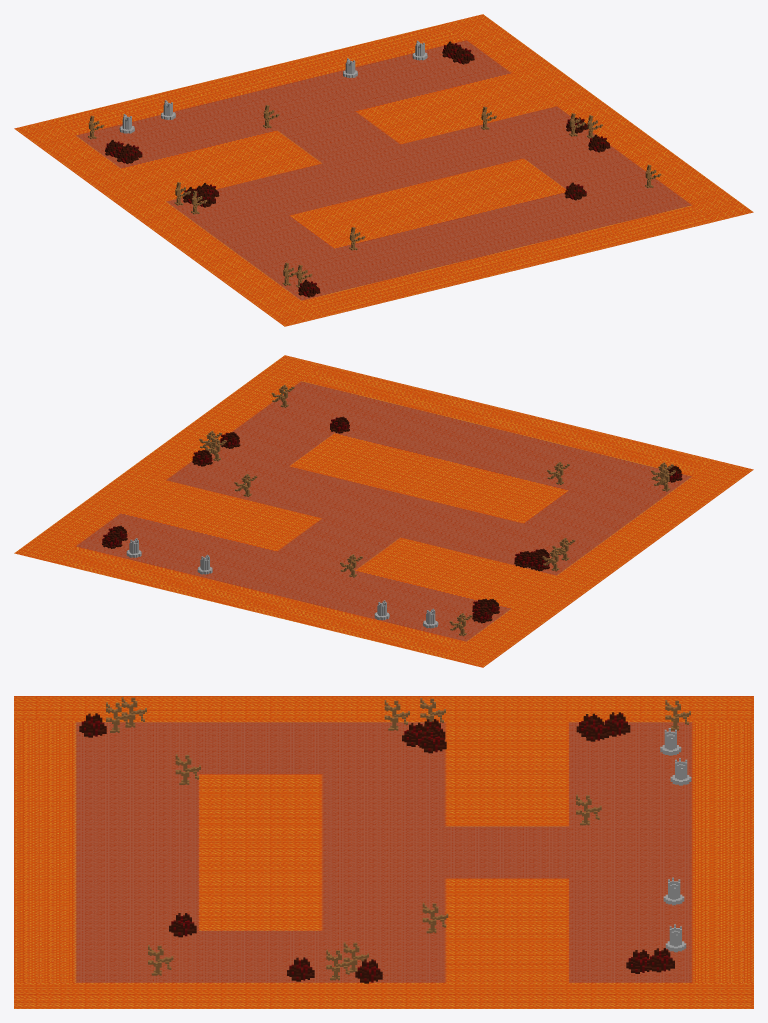
Rendered from Map12.fbx.
3 views of the same model, one above another, from view 1: azimuth 30°, elevation 25°; view 2: azimuth 150°, elevation 25°; view 3: azimuth 270°, elevation 25° (orthographic). The views are drawn at different scales.
Parts seen in each view (by area): view 1: pPlane1; view 2: pPlane1; view 3: pPlane1.
Boxes of the visible parts, x1,y1,x2,y2 form: pPlane1: (14, 14, 753, 326); pPlane1: (14, 355, 753, 667); pPlane1: (14, 696, 753, 1008).
Size of the model in its own units: 60 by 2.54 by 60.
